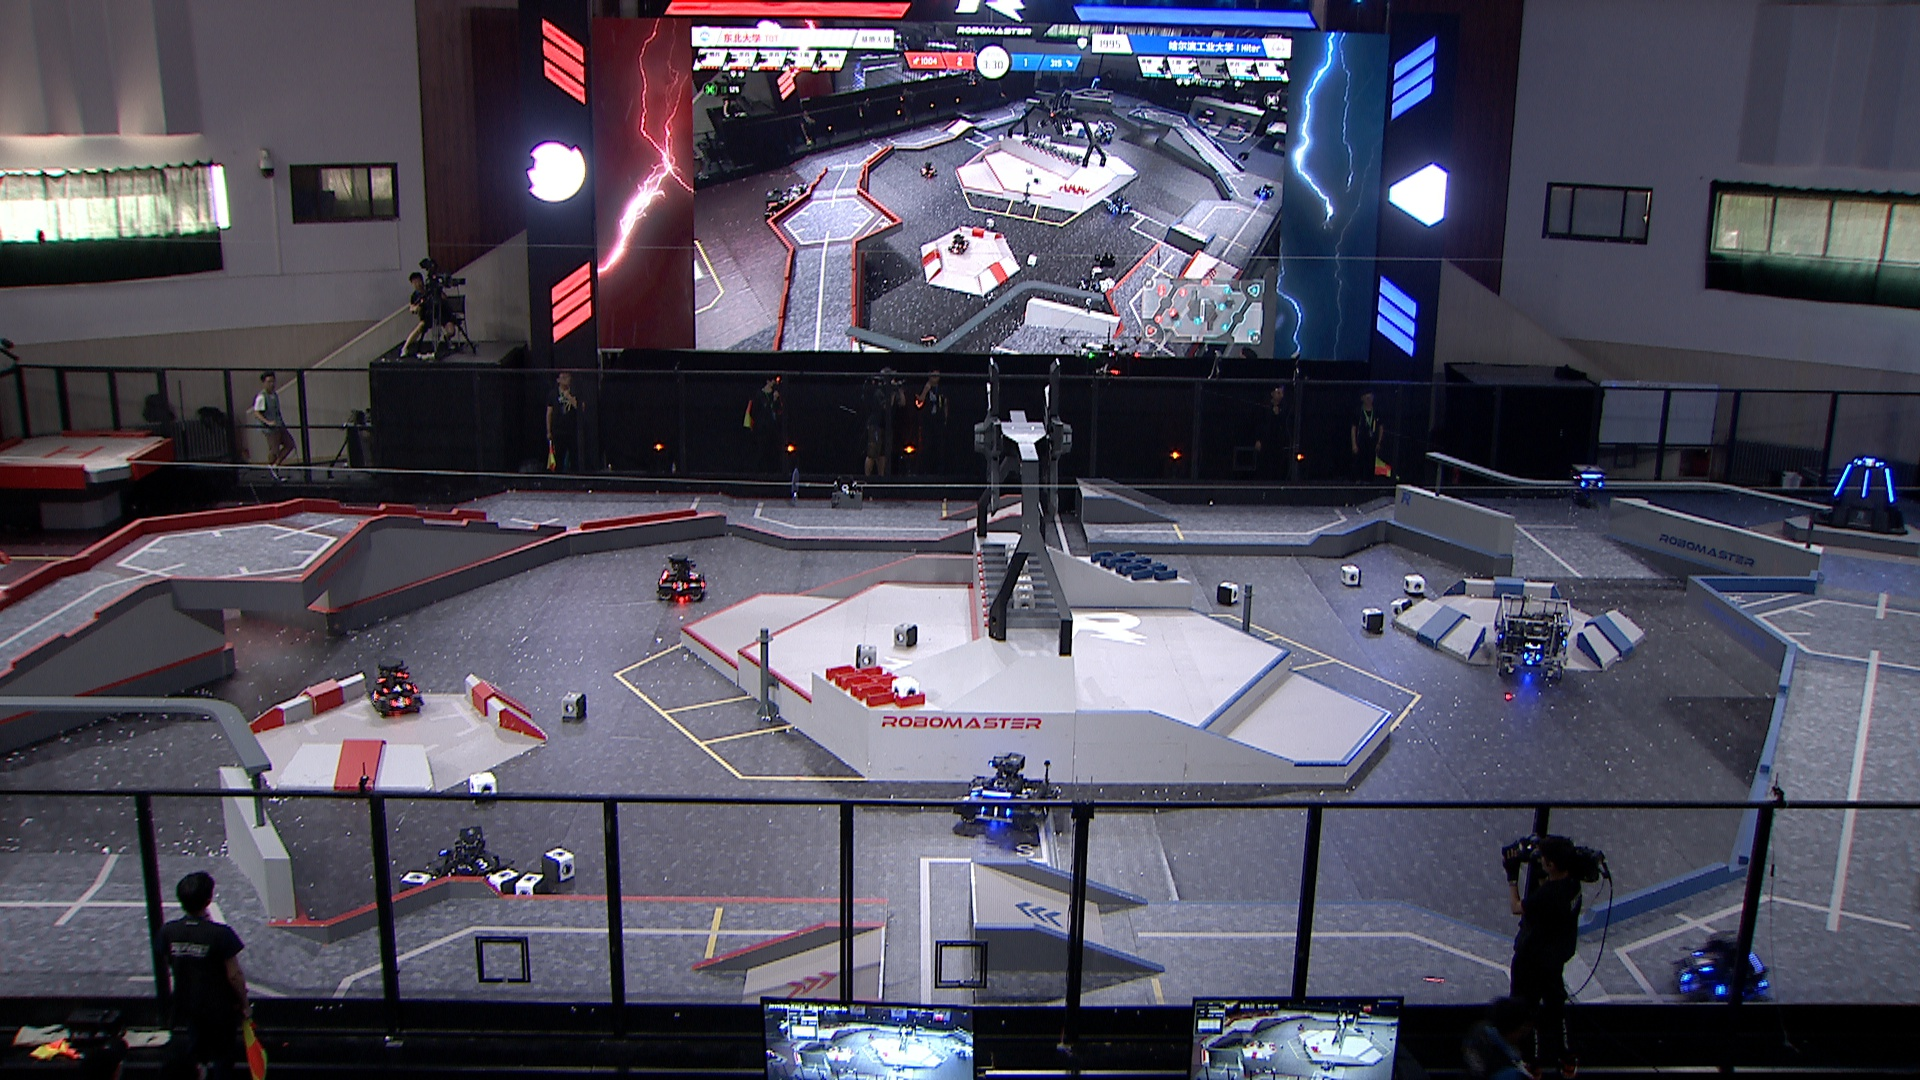armor: (1832, 462, 1854, 496), (467, 855, 495, 877), (1883, 467, 1898, 502), (1695, 949, 1713, 975), (978, 802, 1007, 818), (1859, 465, 1871, 498), (1677, 965, 1695, 986), (1580, 476, 1604, 491), (385, 680, 410, 694), (1855, 456, 1882, 467), (392, 694, 409, 708), (670, 580, 688, 593), (1522, 650, 1542, 662), (968, 785, 984, 799), (688, 570, 699, 583), (371, 688, 381, 702)
base: (1807, 448, 1912, 534)
car: (1490, 588, 1577, 687), (953, 752, 1054, 836), (1673, 927, 1771, 1007), (429, 822, 504, 897), (368, 655, 427, 719), (654, 553, 712, 605)
ignore: (757, 189, 789, 216), (1102, 195, 1135, 220), (1091, 116, 1117, 145), (785, 179, 811, 204), (918, 334, 942, 360), (945, 229, 969, 253), (1255, 179, 1275, 200), (1087, 73, 1106, 92), (916, 158, 936, 177)
watcher: (1567, 458, 1610, 508)
